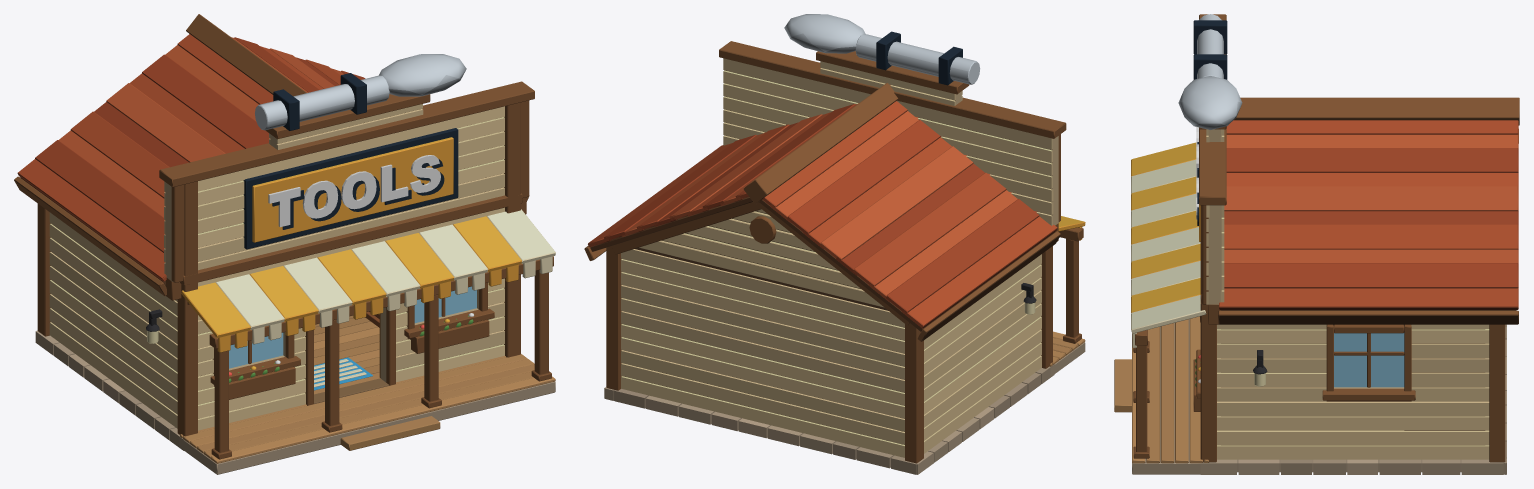
Rendered from ToolShack.glb.
The picture shows the model from 3 angles, left to right: view 1: azimuth 30°, elevation 25°; view 2: azimuth 150°, elevation 25°; view 3: azimuth 270°, elevation 25°; orthographic projection. The views are drawn at different scales.
Visible parts, largest first — view 1: ToolShack_Detail, ToolShack_Walls, ToolShack_Roof, ToolShack_Sign, ToolShack_Glass, ToolShack_Interior; view 2: ToolShack_Walls, ToolShack_Roof, ToolShack_Detail; view 3: ToolShack_Roof, ToolShack_Detail, ToolShack_Walls, ToolShack_Glass.
Boxes of the visible parts, <box> form: ToolShack_Detail: <box>37,54,555,474</box>; ToolShack_Walls: <box>35,104,504,450</box>; ToolShack_Roof: <box>14,14,528,296</box>; ToolShack_Sign: <box>268,155,444,229</box>; ToolShack_Glass: <box>229,286,476,368</box>; ToolShack_Interior: <box>314,311,379,390</box>; ToolShack_Walls: <box>604,58,1059,474</box>; ToolShack_Roof: <box>584,83,1060,341</box>; ToolShack_Detail: <box>606,14,1085,463</box>; ToolShack_Roof: <box>1218,97,1519,324</box>; ToolShack_Detail: <box>1114,14,1505,474</box>; ToolShack_Walls: <box>1200,129,1506,474</box>; ToolShack_Glass: <box>1334,333,1404,387</box>.
Size of the model in its own units: 27.57 by 23.41 by 25.3.
